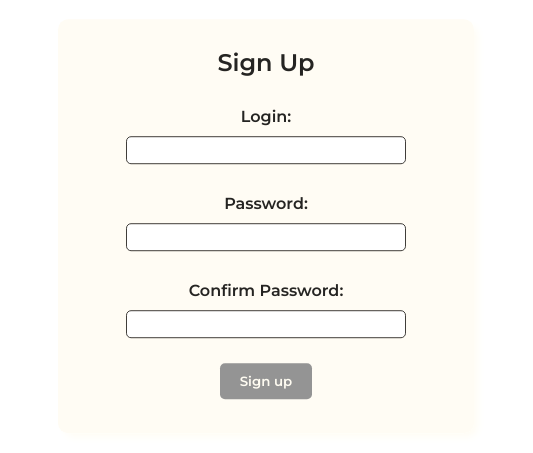
Test case: Form validation › sign up form validation › password validation - display an error message when password does not match the confirm password inut field
Check: the button is disabled, box top-left (220, 363), bottom-right (312, 399)
Type "12345678" into the password field labelled "Password:" at (266, 237), box top-left (126, 223), bottom-right (406, 251)
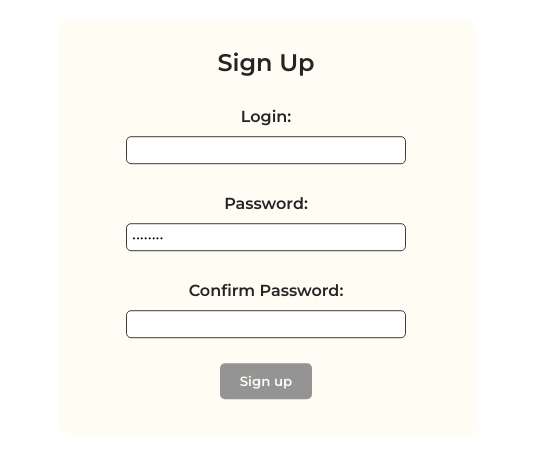
Type "123456789" into the password field labelled "Confirm Password:" at (266, 324), box top-left (126, 310), bottom-right (406, 338)
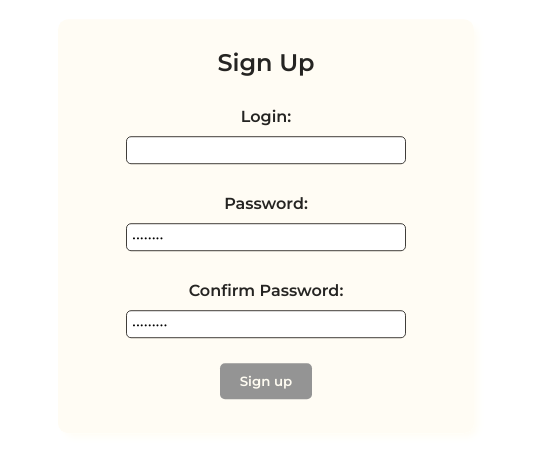
Leave the password field labelled "Confirm Password:", box top-left (126, 310), bottom-right (406, 338)
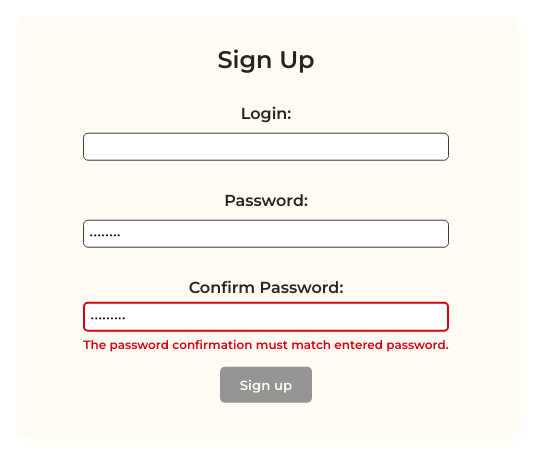
Check: the button is disabled, box top-left (220, 366), bottom-right (312, 402)
Check: the text "The password confirmation must match entered password." is shown, box top-left (83, 336), bottom-right (449, 352)
